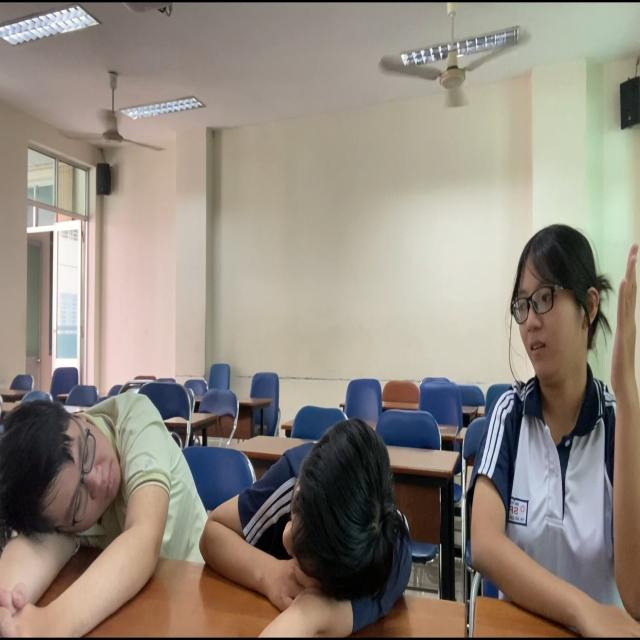raise_hand: (435, 203, 640, 640)
sleep: (173, 375, 433, 640), (1, 354, 226, 640)
